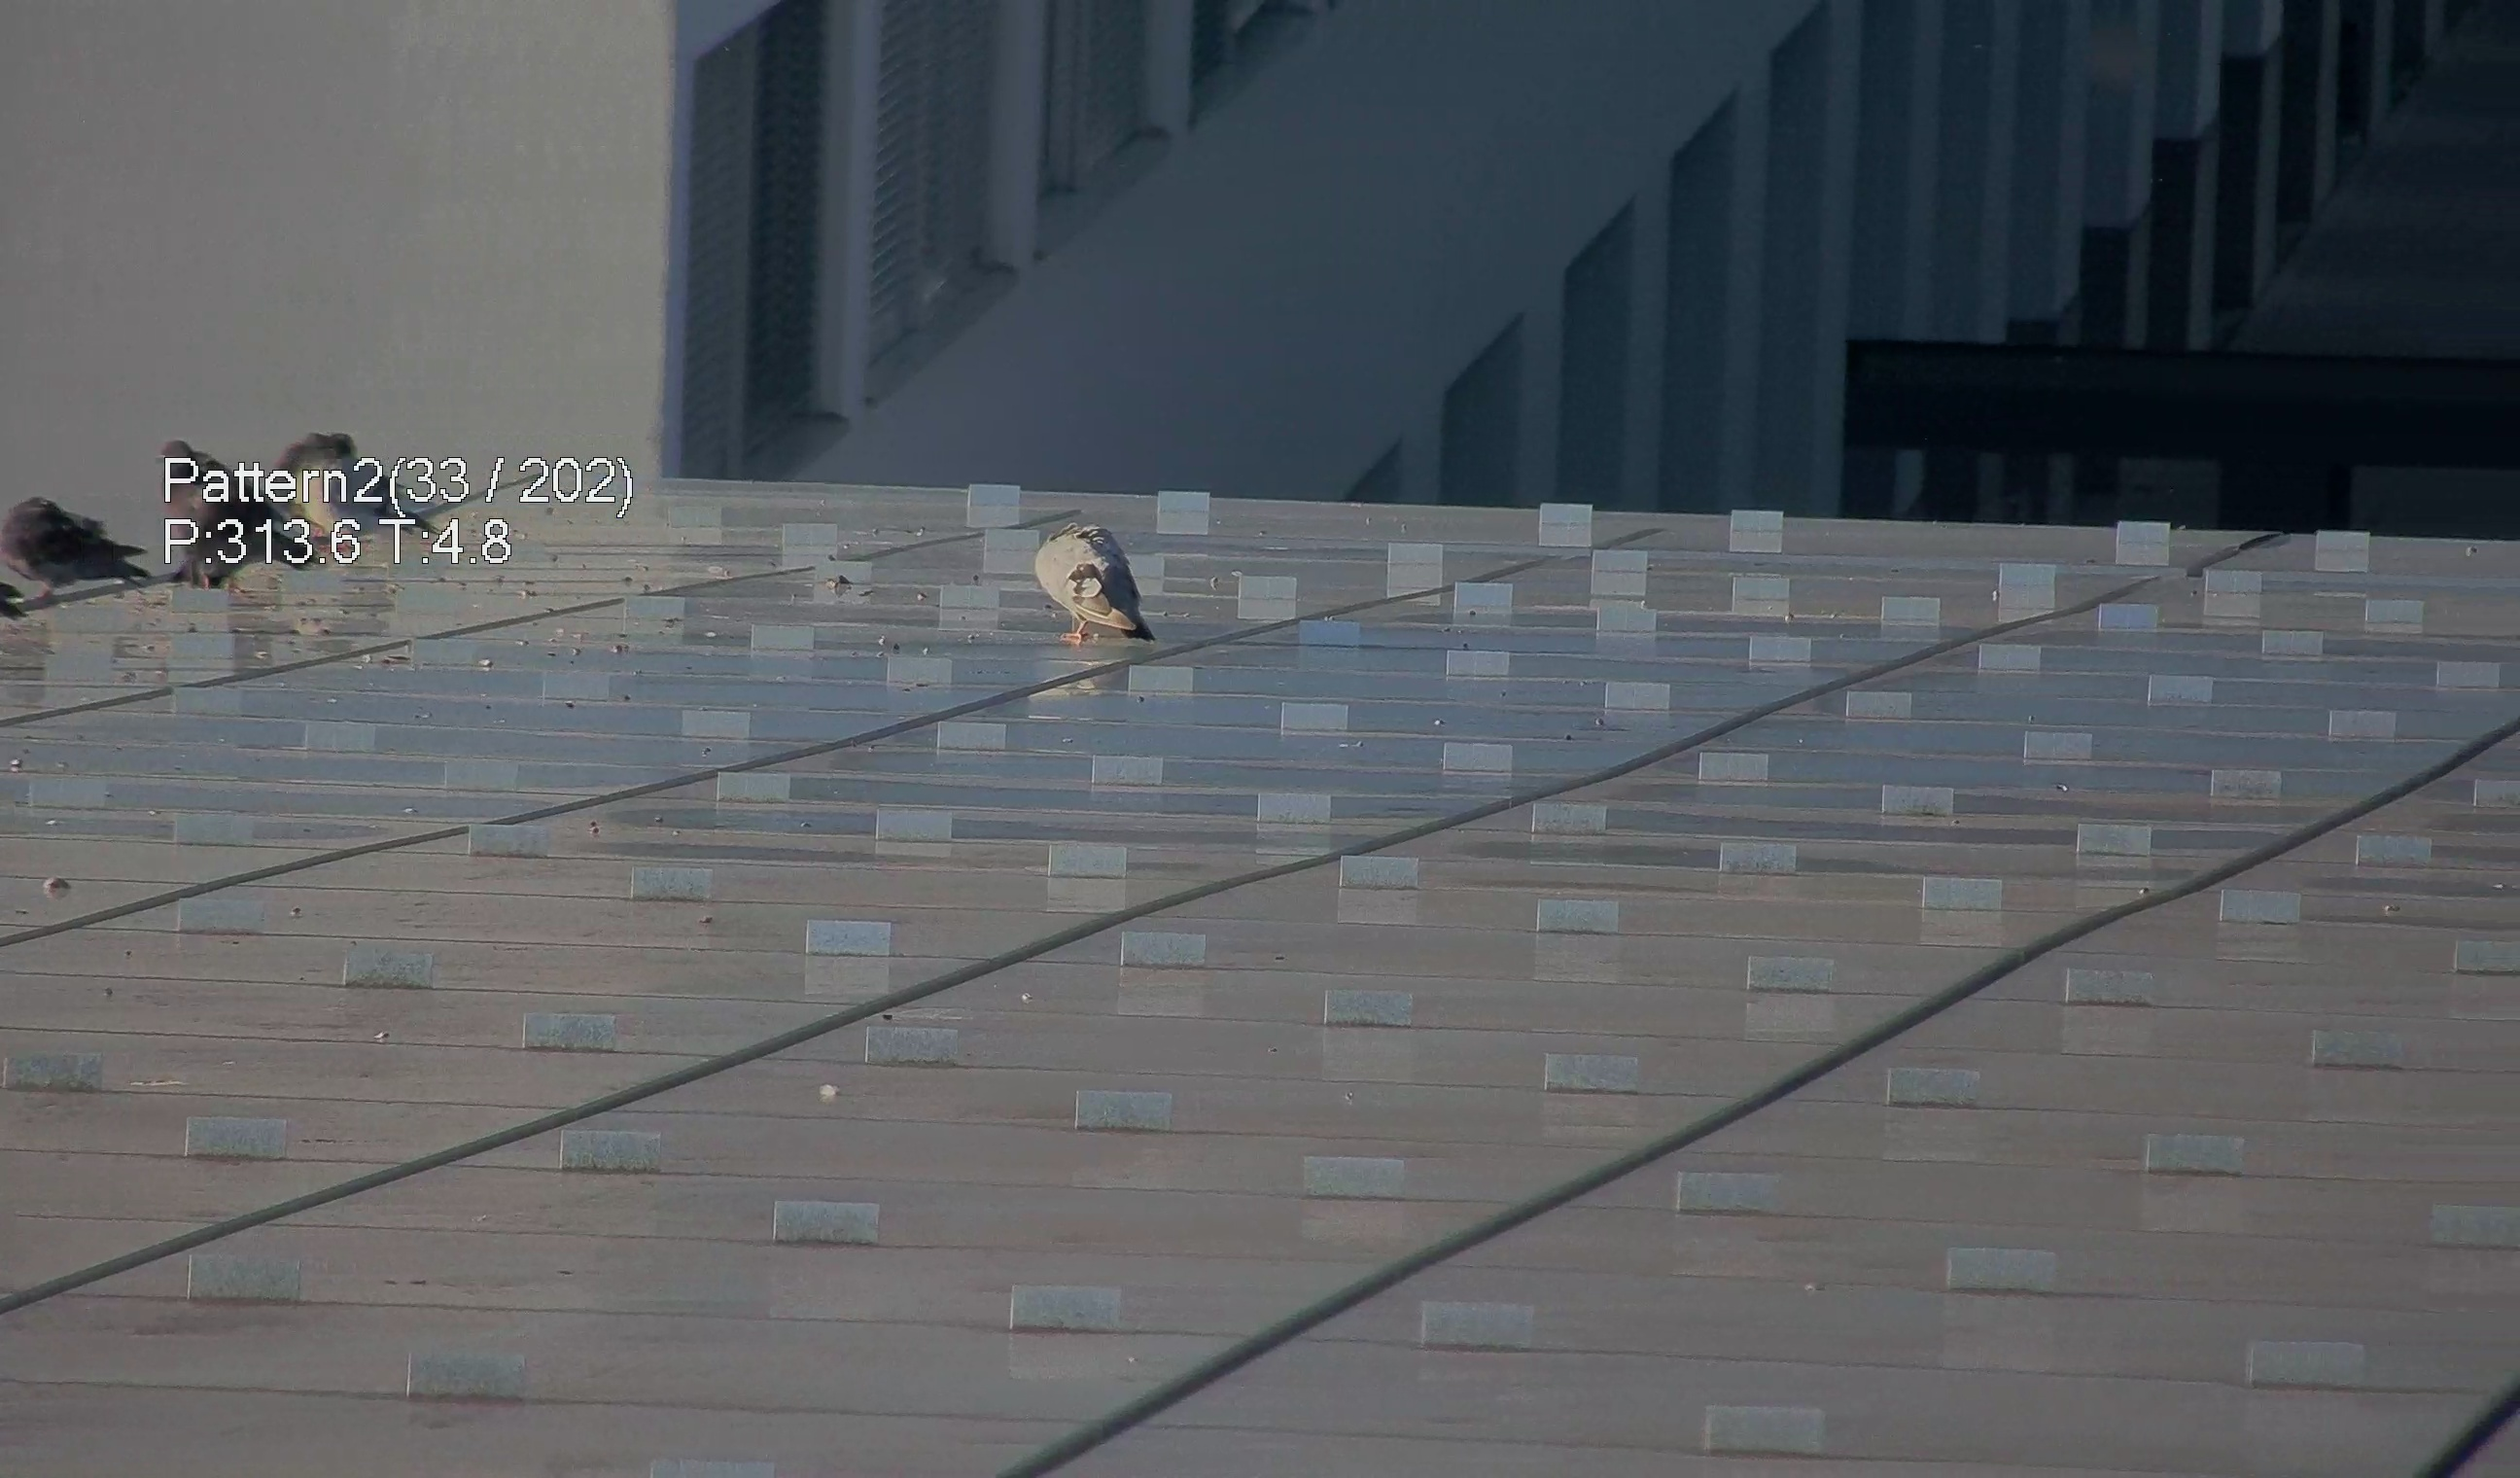Pigeon: (151, 426, 292, 595), (1020, 510, 1162, 653), (2, 479, 142, 618)
